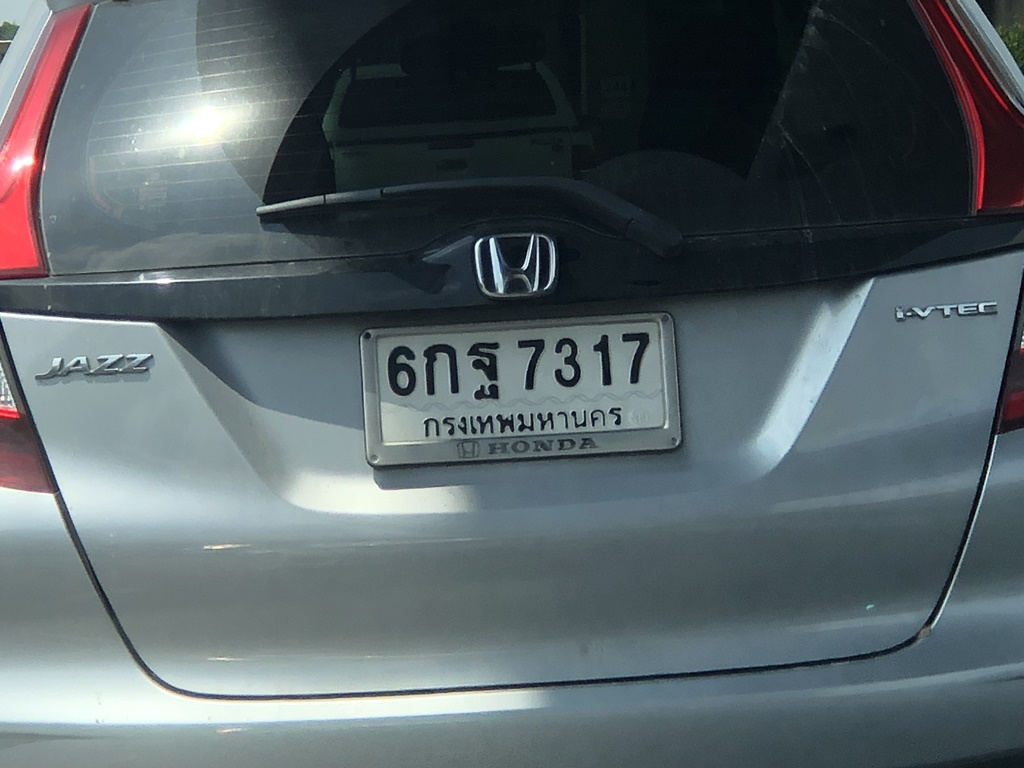plate: (341, 306, 701, 465)
